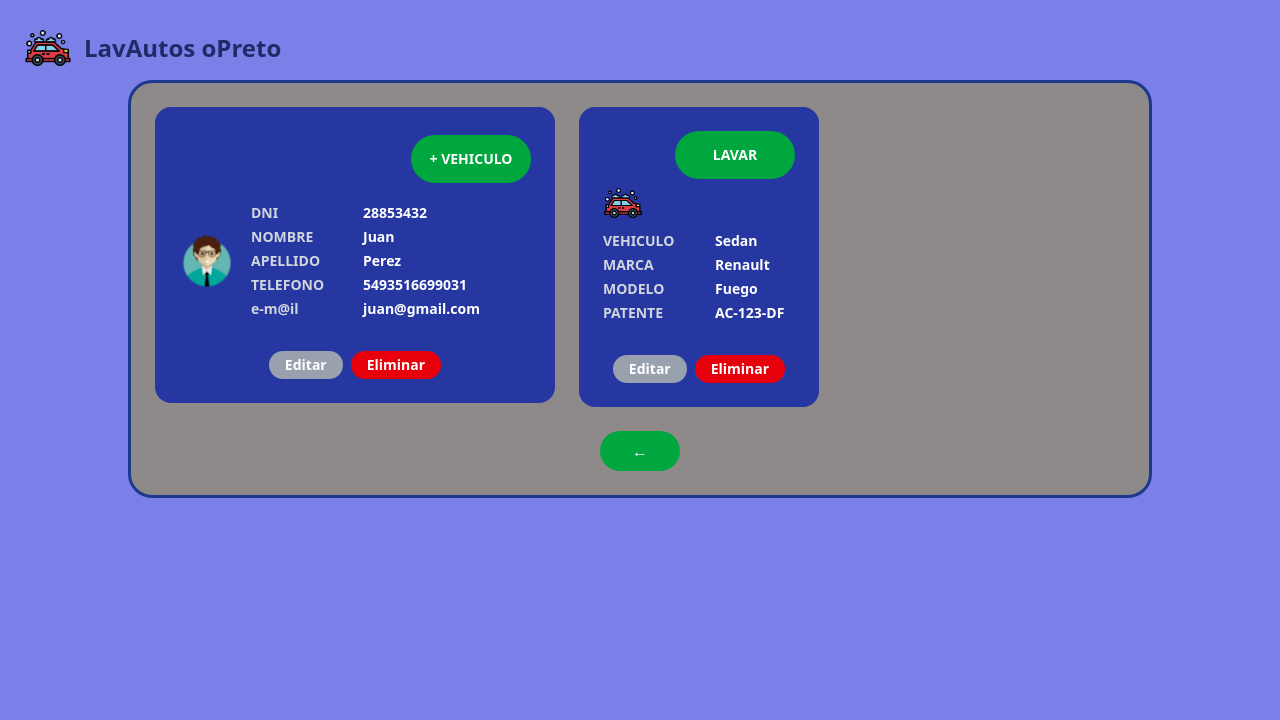
Test: ClienteInfoPage › Eliminar de la card de vehículo abre el popup y ACEPTAR elimina y actualiza la lista
The image size is (1280, 720).
Click the button "Eliminar" below "PATENTE" at [740, 369], box [695,355,785,383]
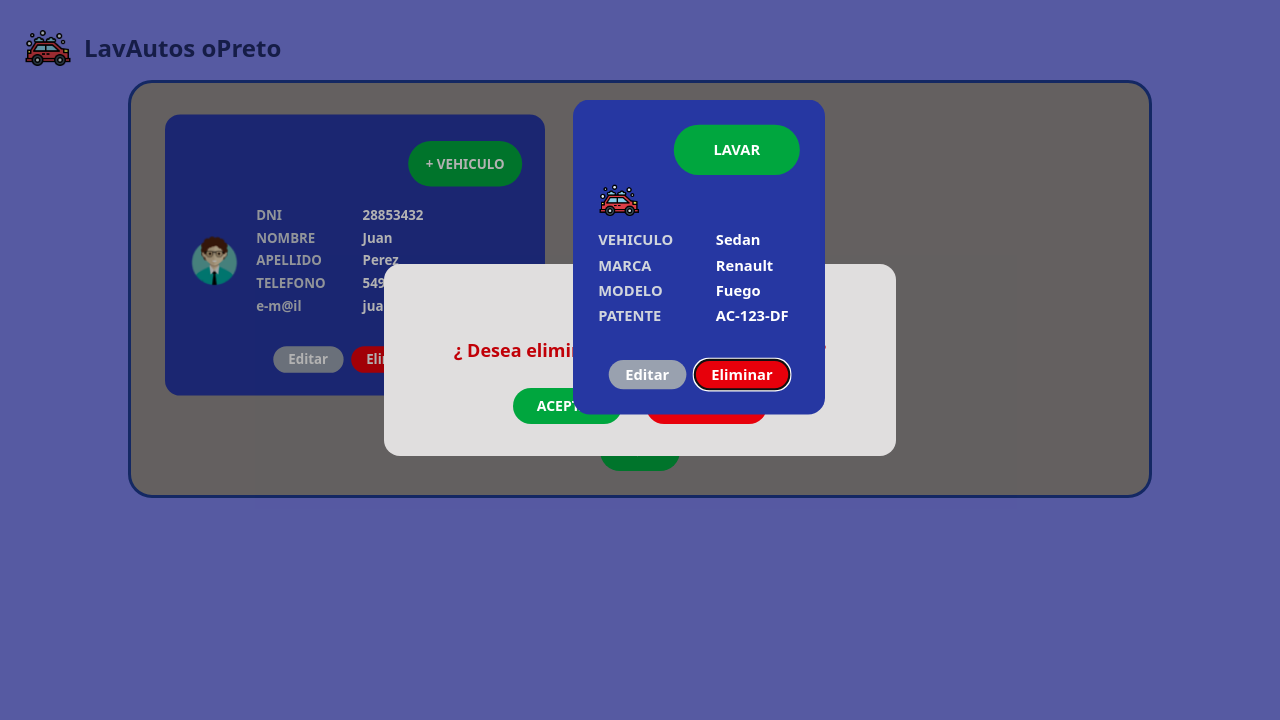
Expected: the text "¿ Desea eliminar el vehiculo \"AC-123-DF\" ?" is shown, [454,338,826,362]
Click the button "ACEPTAR" at [567, 406], box [513,388,622,424]
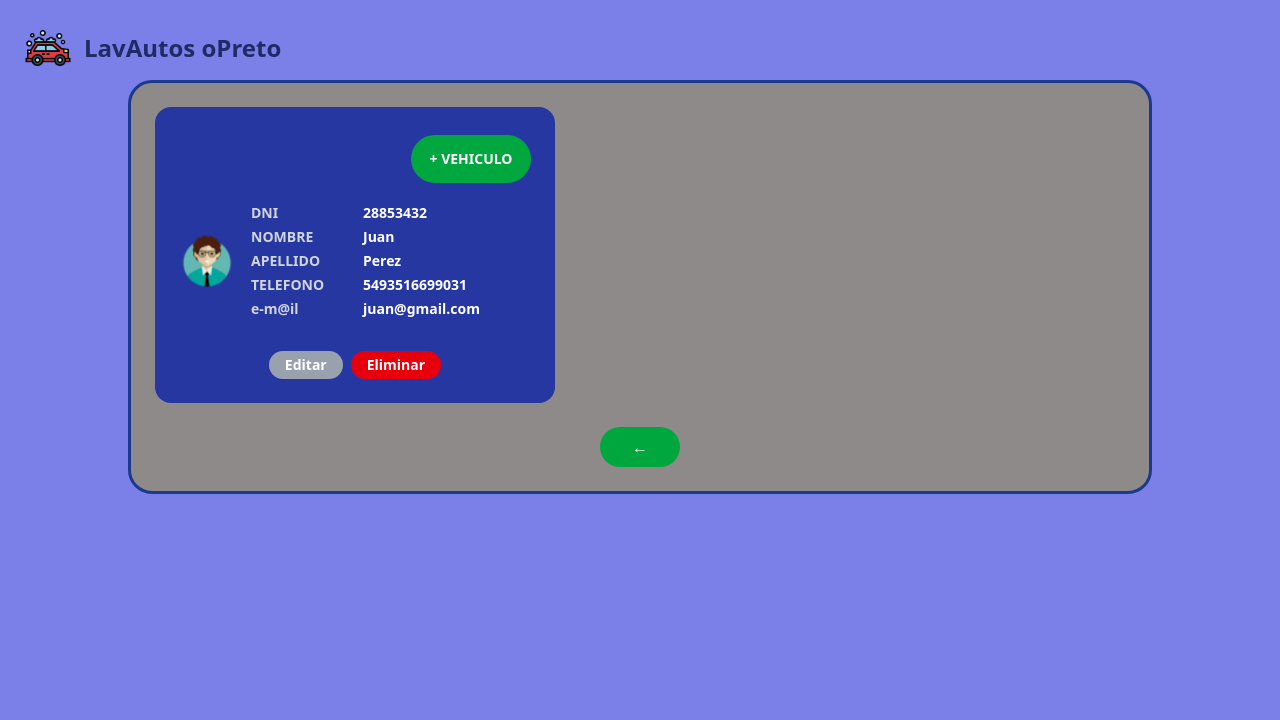
Expected: the element with test id "vehiculo-card" is gone
